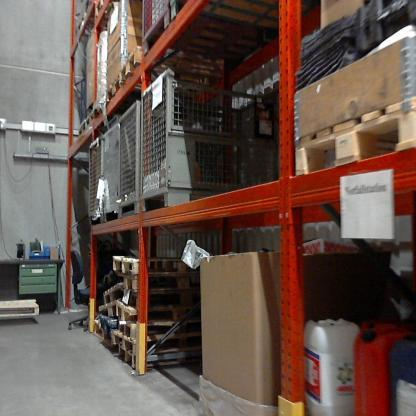pallets: (88, 231, 208, 381), (291, 98, 415, 176), (72, 49, 145, 141), (0, 297, 40, 322)
